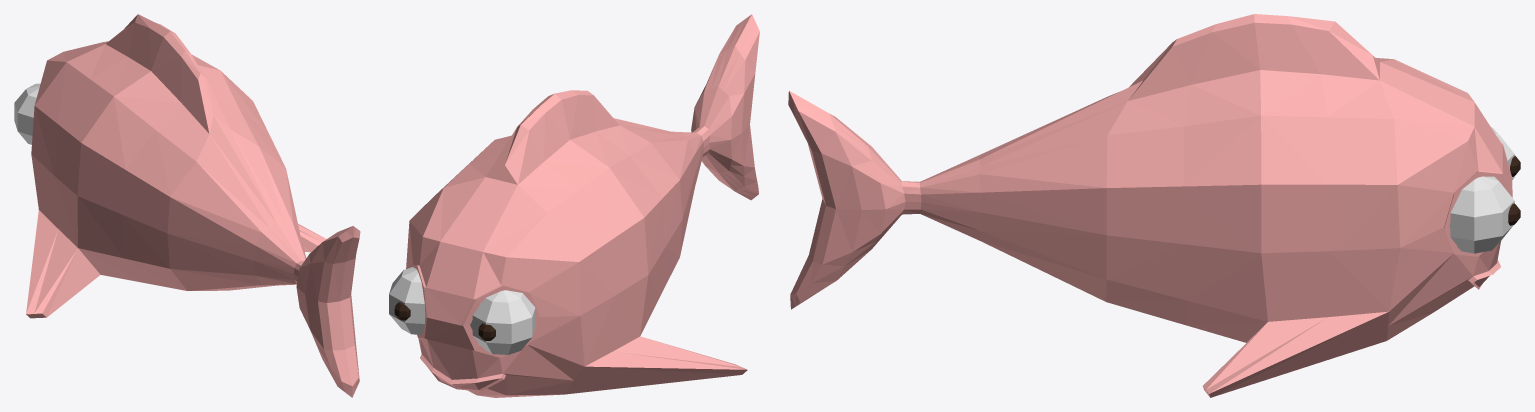
File: Ikan.dae
3 renders of one model, left to right at view 1: azimuth 30°, elevation 25°; view 2: azimuth 150°, elevation 25°; view 3: azimuth 270°, elevation 25°, orthographic. The views are drawn at different scales.
Parts seen in each view (by area): view 1: Cube, Sphere.001; view 2: Cube, Sphere.001, Sphere; view 3: Cube, Sphere.
Part boxes in pixels (left/top/right/bottom): Cube: left=26, top=14, right=360, bottom=397; Sphere.001: left=14, top=83, right=40, bottom=144; Cube: left=406, top=14, right=759, bottom=397; Sphere.001: left=470, top=290, right=535, bottom=354; Sphere: left=389, top=267, right=425, bottom=334; Cube: left=788, top=14, right=1512, bottom=397; Sphere: left=1448, top=176, right=1514, bottom=253.
Bounding box in the file's own units: 7.67 × 12.65 × 6.02.
